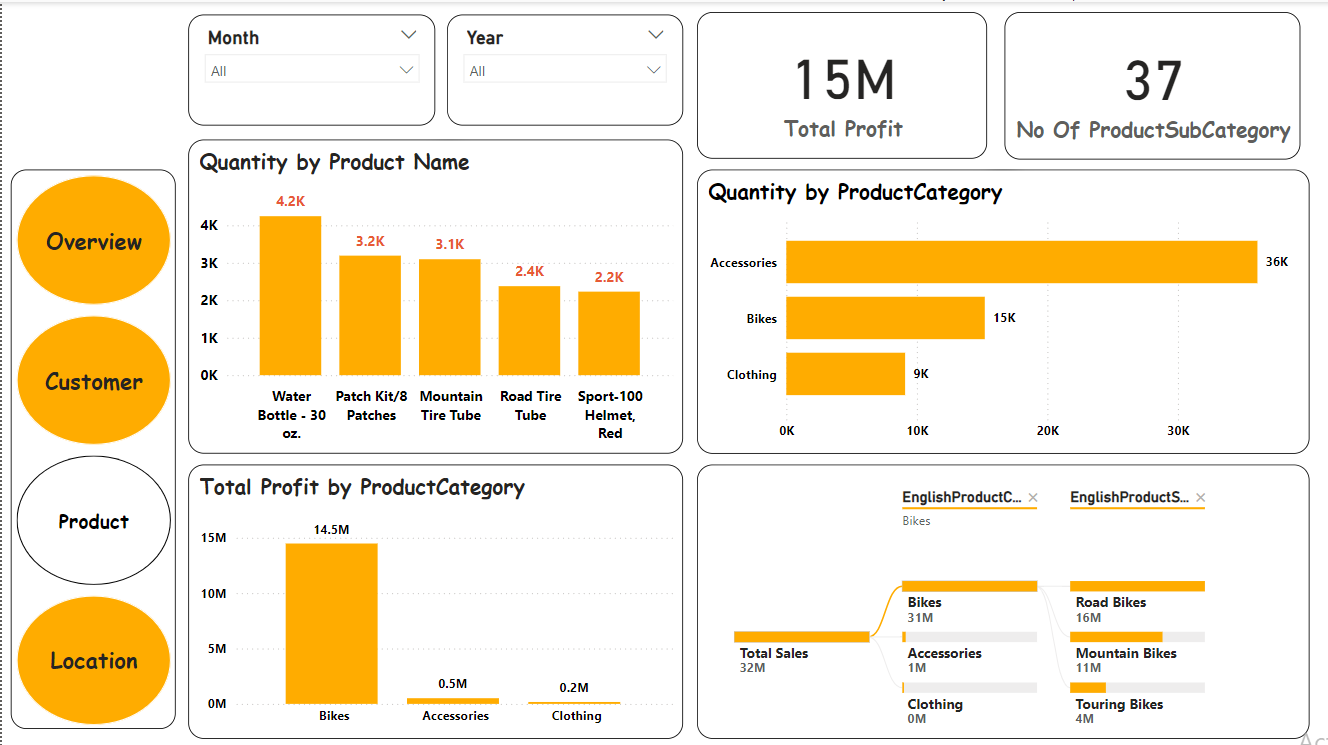

The dashboard page shown, as its layout file describes it:
{"tool":"powerbi","page":{"name":"Product","canvas":[1280,720],"ordinal":2},"visuals":[{"type":"decompositionTreeVisual","fields":{"Analyze":["My Measures.Total Sales"],"ExplainBy":["ProductCategory.EnglishProductCategoryName","ProductSubcategory.EnglishProductSubcategoryName"]},"box":[671,446,591.4,264.8],"z":0},{"type":"clusteredBarChart","title":"Quantity by ProductCategory","fields":{"Y":["My Measures.Quantity"],"Category":["ProductCategory.EnglishProductCategoryName"]},"box":[671,161.9,591.4,274.4],"z":1000},{"type":"clusteredColumnChart","title":"Quantity by Product Name","fields":{"Y":["My Measures.Quantity"],"Category":["Product.EnglishProductName"]},"box":[179.8,133.1,477.5,303.3],"z":2000},{"type":"columnChart","title":"Total Profit by ProductCategory","fields":{"Category":["ProductCategory.EnglishProductCategoryName"],"Y":["My Measures.Total Profit"]},"box":[179.8,446,477.5,264.8],"z":3000},{"type":"card","fields":{"Values":["My Measures.Total Profit"]},"box":[671,9.6,279.9,141.3],"z":4000},{"type":"card","fields":{"Values":["My Measures.No Of ProductSubCategory"]},"box":[967.4,9.6,285.4,142.7],"z":5000},{"type":"slicer","fields":{"Values":["InternetSale.Year"]},"box":[429.5,12.3,227.8,107],"z":6000},{"type":"slicer","fields":{"Values":["InternetSale.Month"]},"box":[179.7,12.1,238.8,107.3],"z":7000},{"type":"pageNavigator","box":[9,162,159,540],"z":8000}]}

Visuals, with their boxes in screenshot pixels (x1, y1, x2, y2), scaled from the page's 1280x720 canvas onto the 1328x745 screenshot:
decompositionTreeVisual - My Measures.Total Sales x ProductCategory.EnglishProductCategoryName: left=696, top=461, right=1310, bottom=735
"Quantity by ProductCategory" clusteredBarChart: left=696, top=168, right=1310, bottom=451
"Quantity by Product Name" clusteredColumnChart: left=187, top=138, right=682, bottom=452
"Total Profit by ProductCategory" columnChart: left=187, top=461, right=682, bottom=735
card - My Measures.Total Profit: left=696, top=10, right=987, bottom=156
card - My Measures.No Of ProductSubCategory: left=1004, top=10, right=1300, bottom=158
slicer - InternetSale.Year: left=446, top=13, right=682, bottom=123
slicer - InternetSale.Month: left=186, top=13, right=434, bottom=124
pageNavigator: left=9, top=168, right=174, bottom=726
